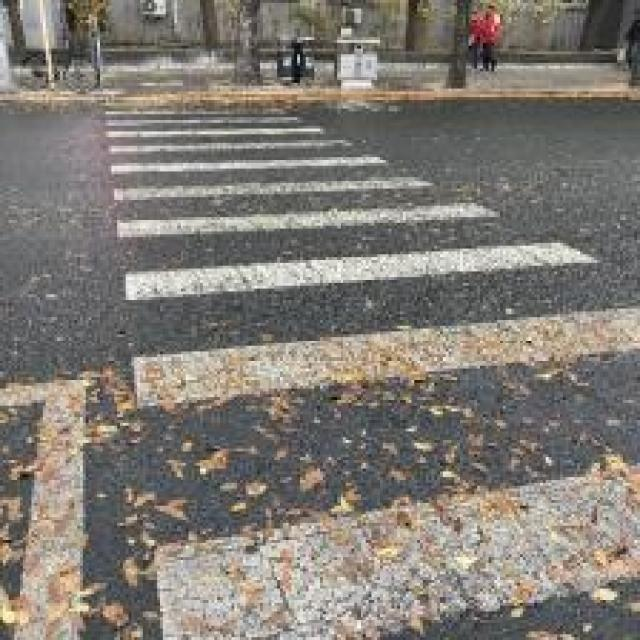zebra: (101, 90, 616, 624)
